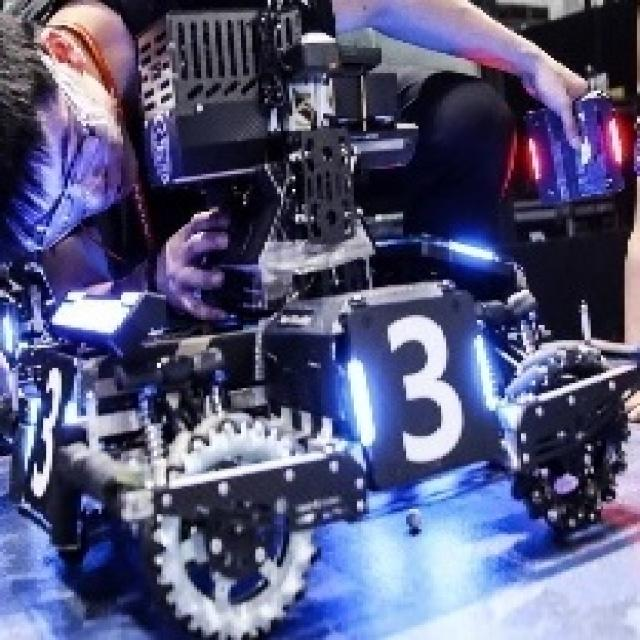B3: (344, 313, 498, 461)
